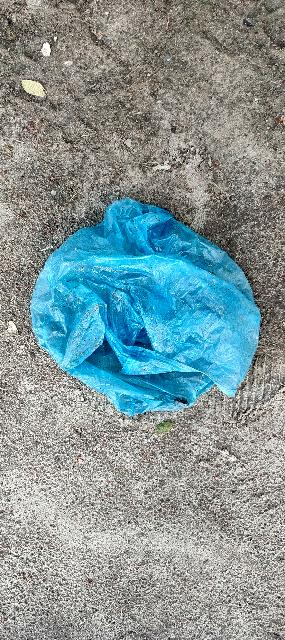polythene: (0, 166, 285, 451)
